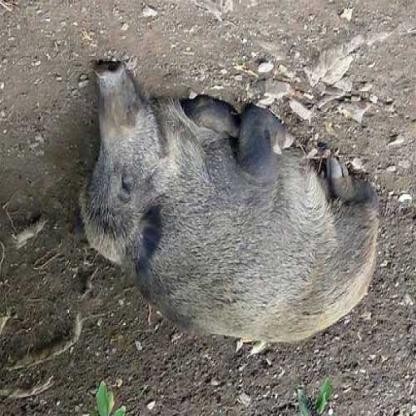boar: (76, 61, 412, 351)
